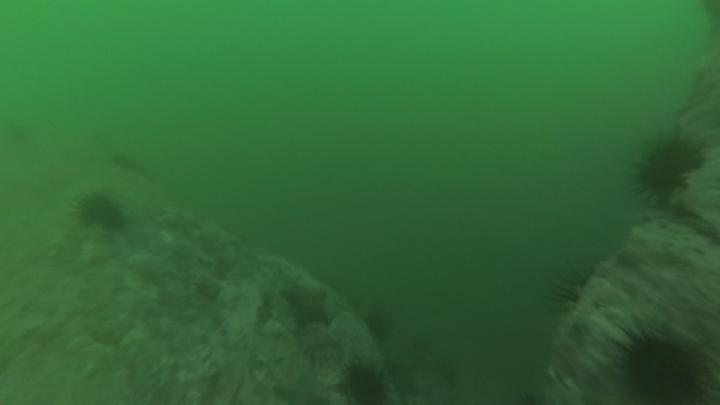echinus: (614, 327, 705, 405), (634, 132, 706, 205), (73, 186, 128, 235), (342, 357, 390, 404), (551, 268, 596, 312), (364, 308, 398, 342), (409, 333, 437, 365), (438, 359, 460, 385)
starfish: (280, 278, 338, 334)
